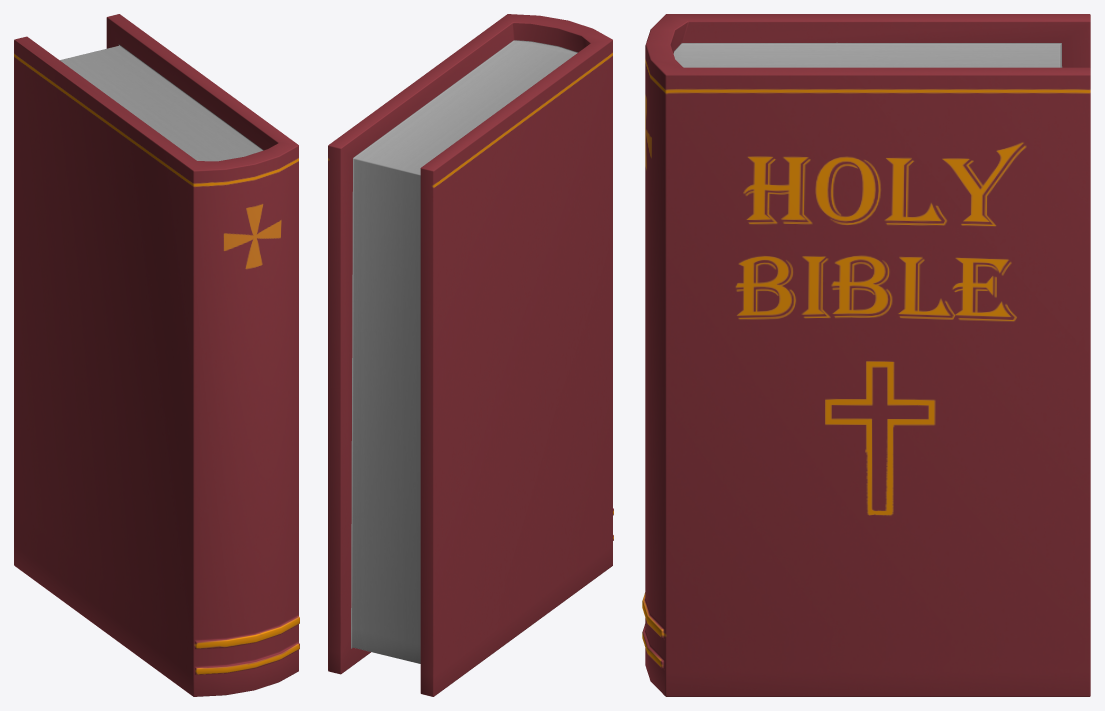
3 views of the same model, side by side, from view 1: azimuth 30°, elevation 25°; view 2: azimuth 150°, elevation 25°; view 3: azimuth 270°, elevation 25° (orthographic). The views are drawn at different scales.
Visible parts, largest first — view 1: book_1_UV; view 2: book_1_UV; view 3: book_1_UV.
Part boxes in pixels (x1,y1,x2,y2): book_1_UV: [14, 14, 299, 696]; book_1_UV: [328, 14, 613, 696]; book_1_UV: [642, 14, 1090, 696].
Size of the model in its own units: 0.0942 by 0.4472 by 0.2919.
1 material, 1 textured.
